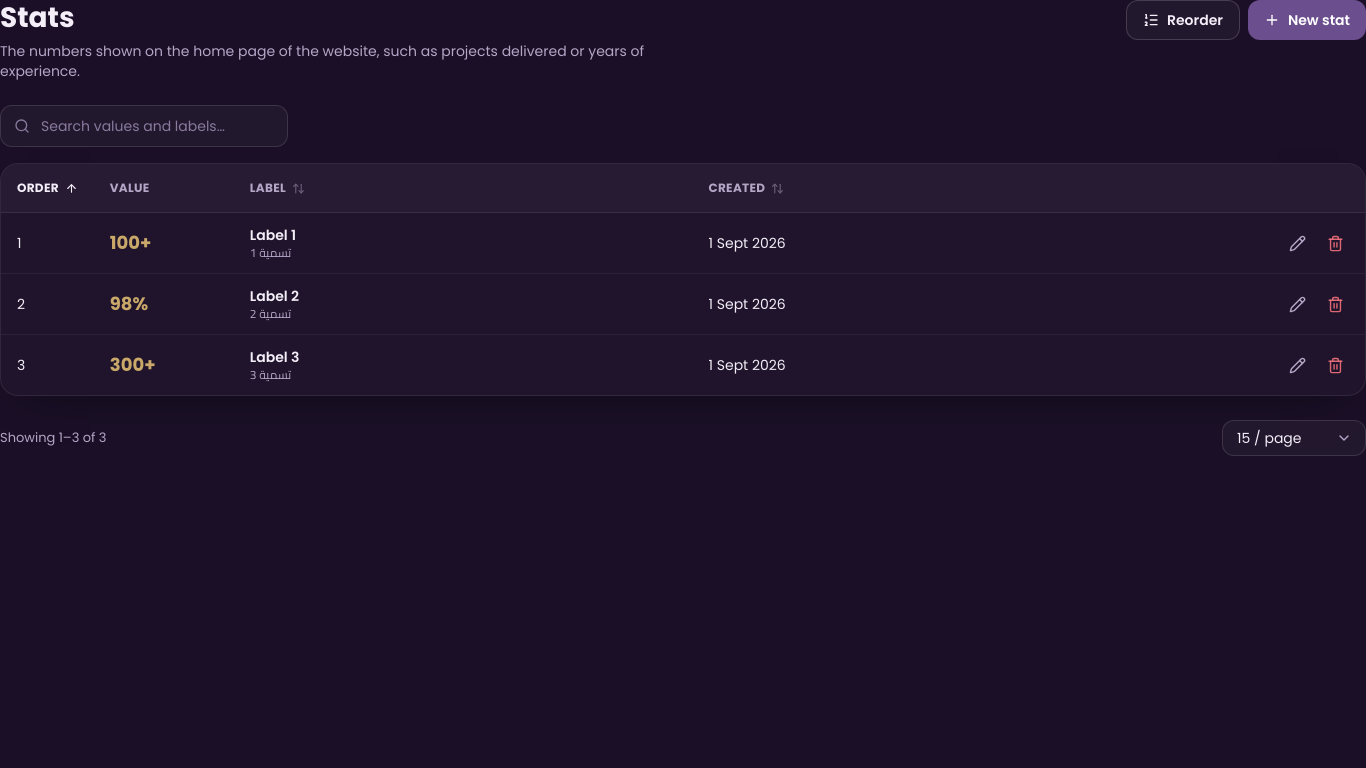
Test: StatList › delete › shows an error toast when the delete fails
The image size is (1366, 768).
Expected: the text "Label 2" is shown, top-left (250, 286), bottom-right (299, 306)
Click the button named "Delete" in the row of "98%".
click(1335, 304)  # box top-left (1317, 286), bottom-right (1353, 322)
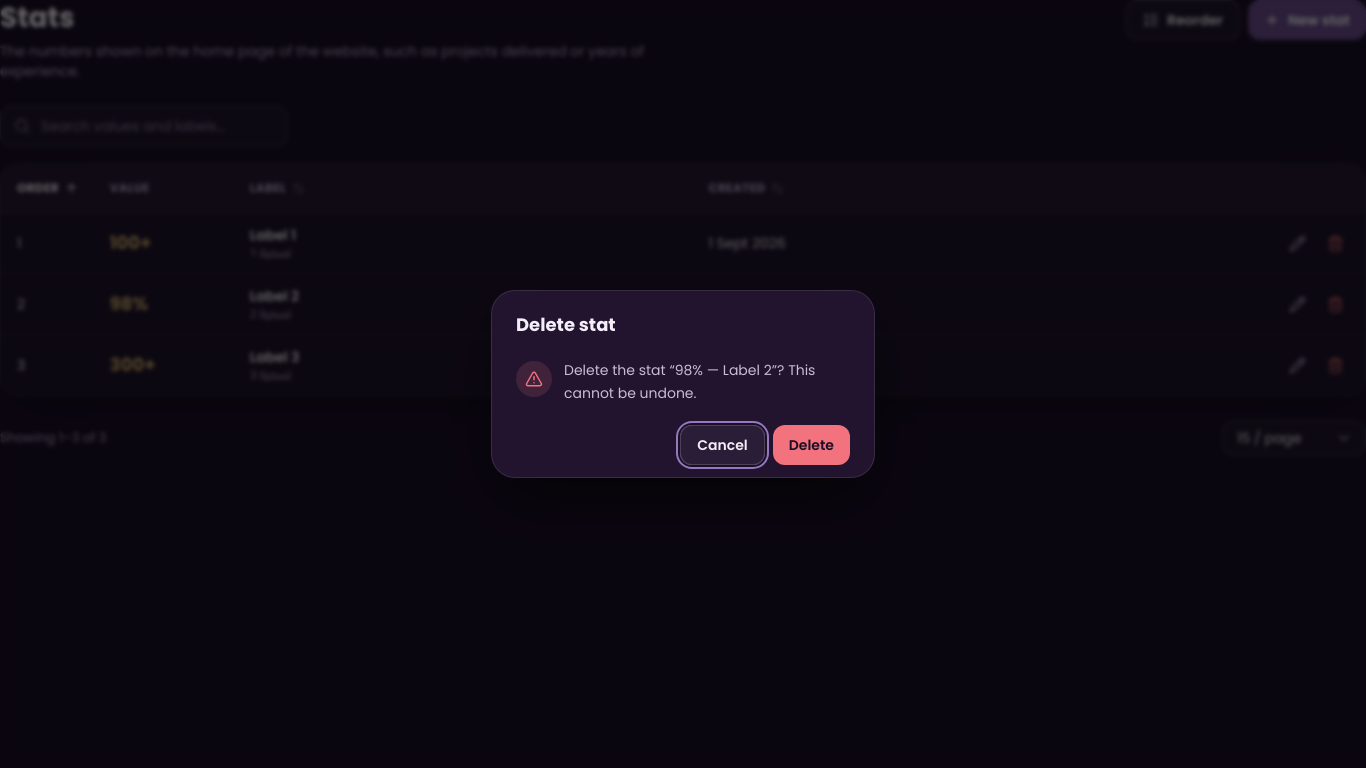
Click the button "Delete".
click(811, 445)  # box top-left (773, 425), bottom-right (850, 465)
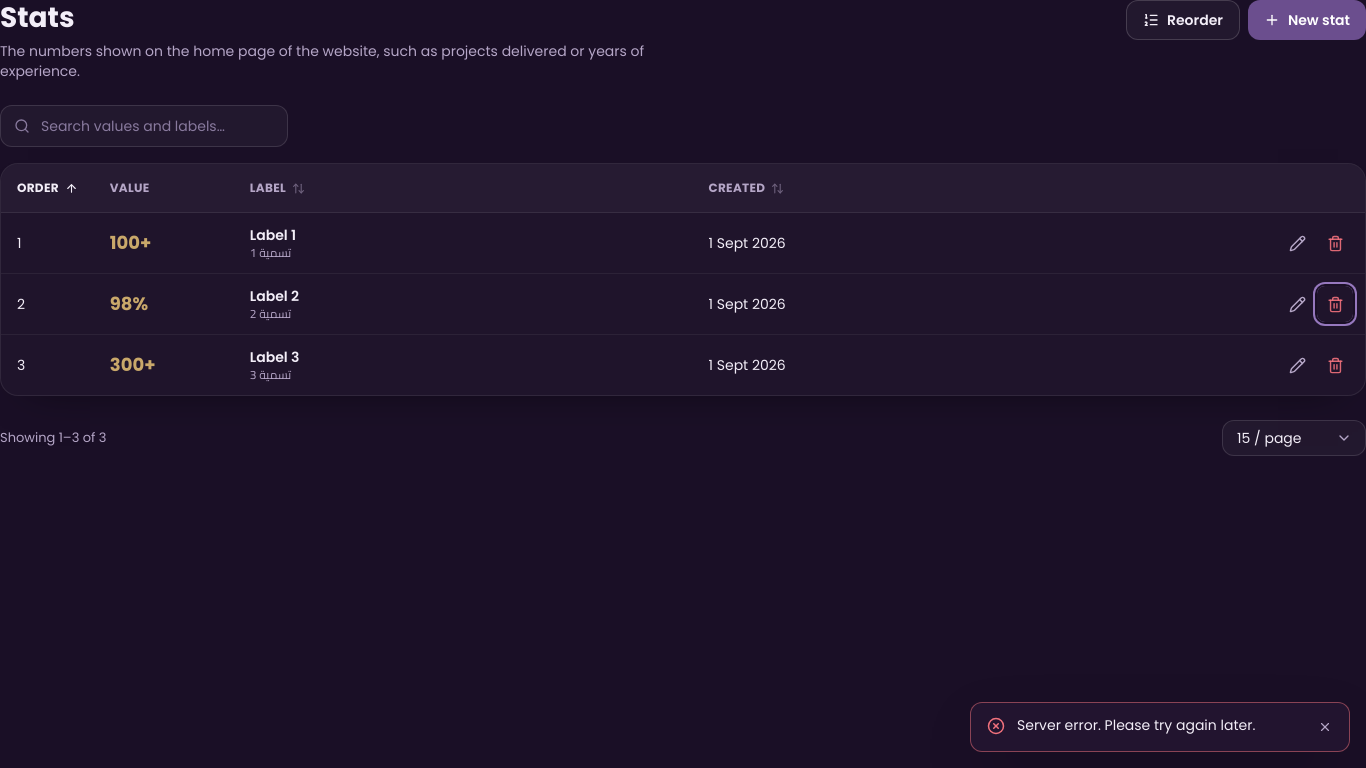
Result: the text "Server error. Please try again later." is shown at top-left (1017, 715), bottom-right (1255, 735)
